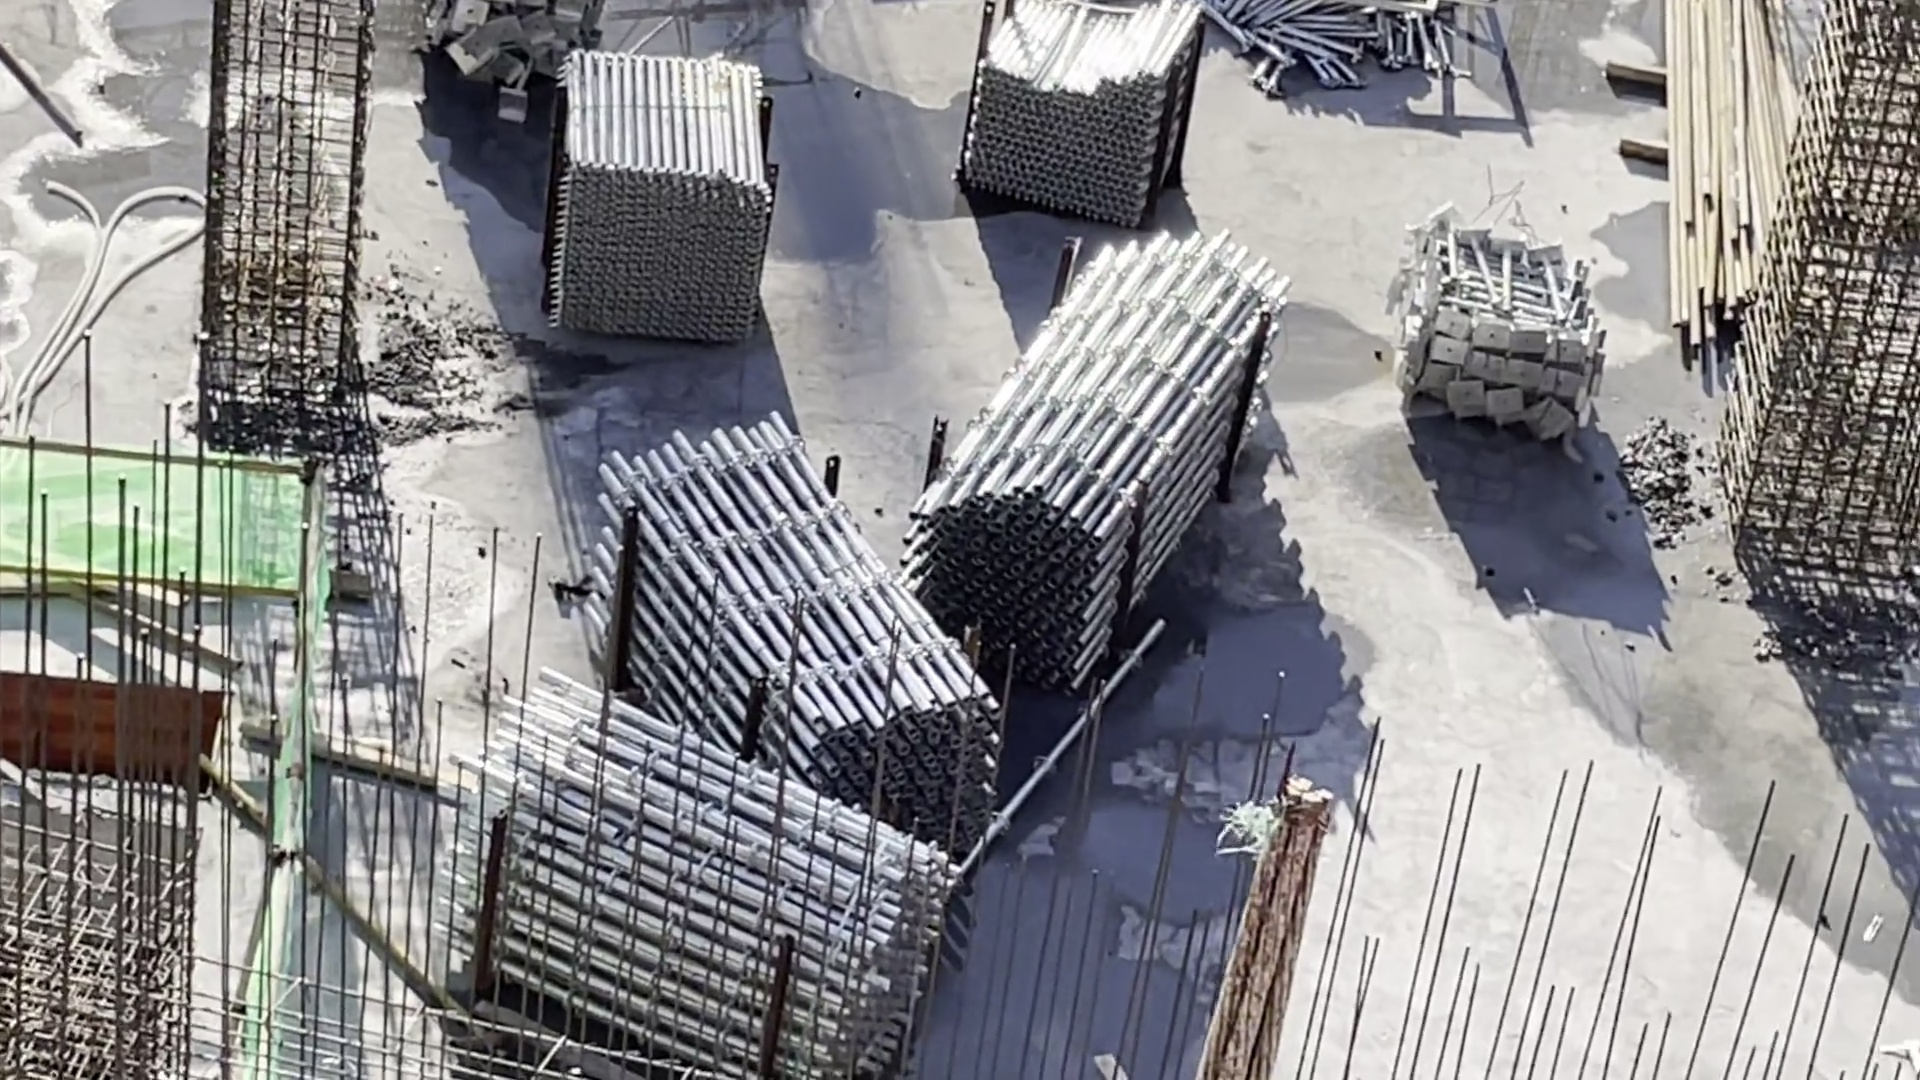scaffold: (585, 413, 1002, 874), (456, 680, 924, 1077), (953, 224, 1280, 644), (549, 49, 771, 355), (959, 4, 1218, 218), (1396, 214, 1596, 464), (423, 1, 607, 127), (1241, 1, 1476, 92)
